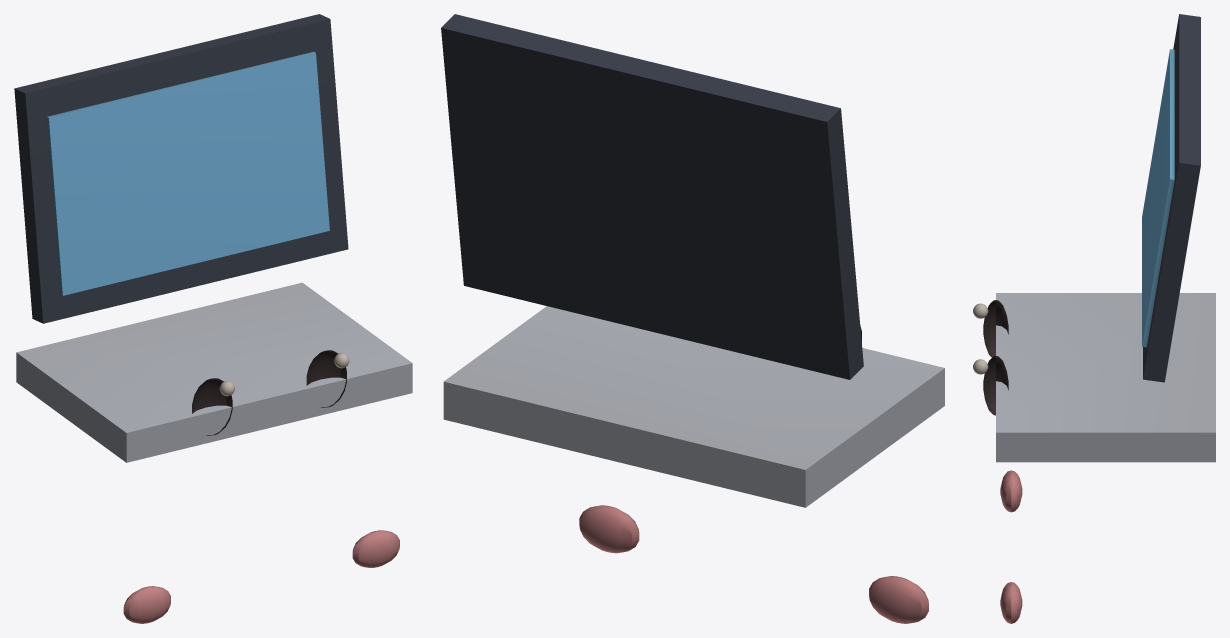
3 views of the same model, side by side, from view 1: azimuth 30°, elevation 25°; view 2: azimuth 150°, elevation 25°; view 3: azimuth 270°, elevation 25° (orthographic). The views are drawn at different scales.
Visible parts, largest first — view 1: pet_p30729b34; view 2: pet_p30729b34; view 3: pet_p30729b34.
Boxes of the visible parts, <box> form: pet_p30729b34: <box>14,14,412,623</box>; pet_p30729b34: <box>441,14,944,623</box>; pet_p30729b34: <box>973,14,1215,623</box>.
Bounding box in the file's own units: 0.32 × 0.4779 × 0.2209.
